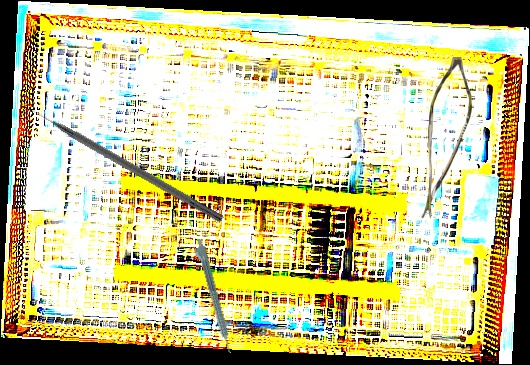Handpiece: (190, 237, 234, 356)
Hook Surgical: (18, 98, 226, 225)
Micro Scissor: (421, 57, 472, 220)
